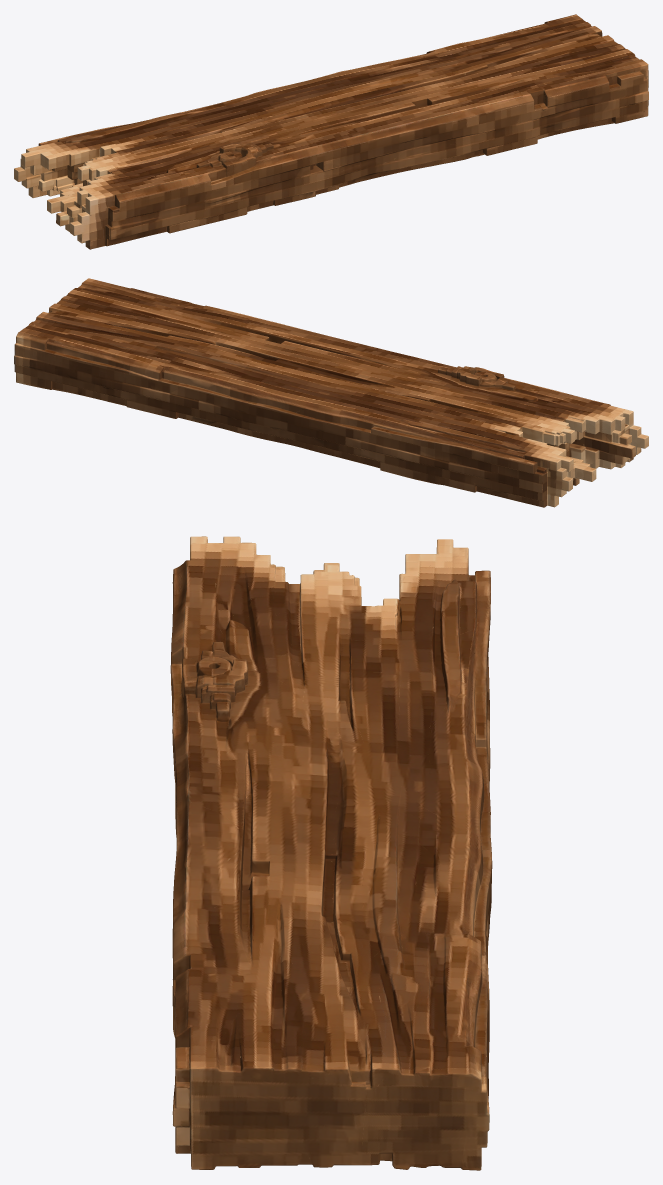
The model's file is Meshy_AI_Splintered_Timber_Pla_1005192528_texture.glb.
3 views of the same model, one above another, from view 1: azimuth 30°, elevation 25°; view 2: azimuth 150°, elevation 25°; view 3: azimuth 270°, elevation 25° (orthographic). The views are drawn at different scales.
Size of the model in its own units: 1.9 by 0.1916 by 0.4723.
1 material, 1 textured.
